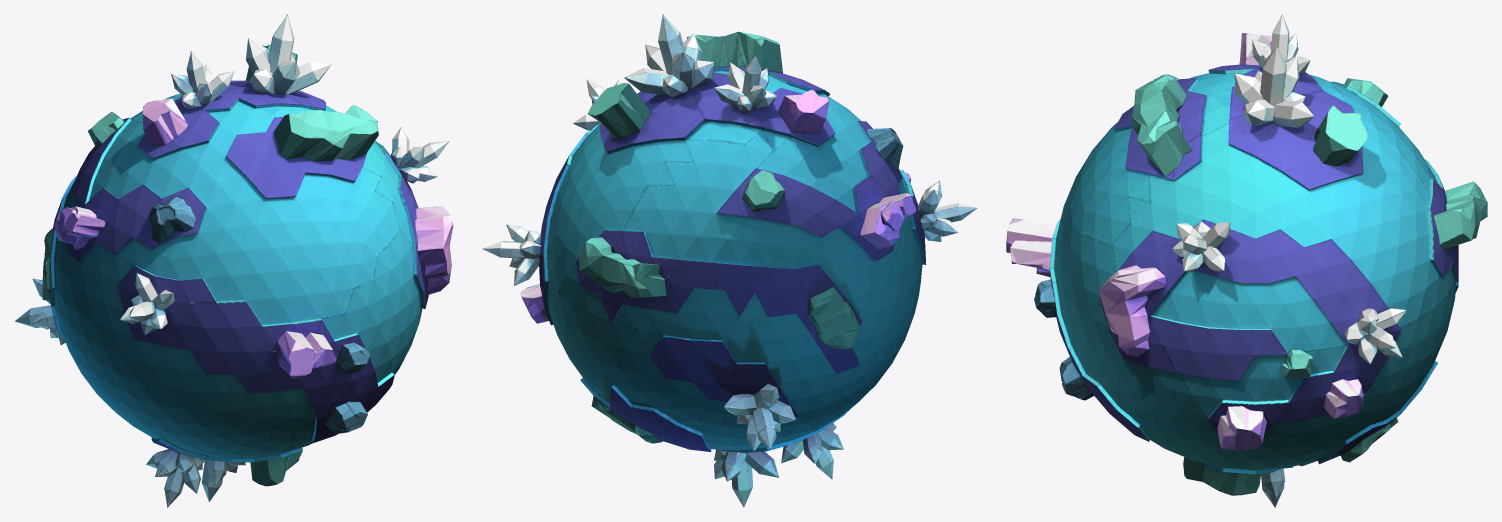
Rendered from urano.obj.
3 renders of one model, left to right at view 1: azimuth 30°, elevation 25°; view 2: azimuth 150°, elevation 25°; view 3: azimuth 270°, elevation 25°, orthographic. The views are drawn at different scales.
Parts seen in each view (by area): view 1: Cliff_Rock_11.002; view 2: Cliff_Rock_11.002; view 3: Cliff_Rock_11.002.
Part boxes in pixels (x1,y1,x2,y2): Cliff_Rock_11.002: (15,14,453,507); Cliff_Rock_11.002: (482,14,976,507); Cliff_Rock_11.002: (1006,14,1487,507).
Bounding box in the file's own units: 2.19 × 2.75 × 2.39.
1 material, 1 textured.
